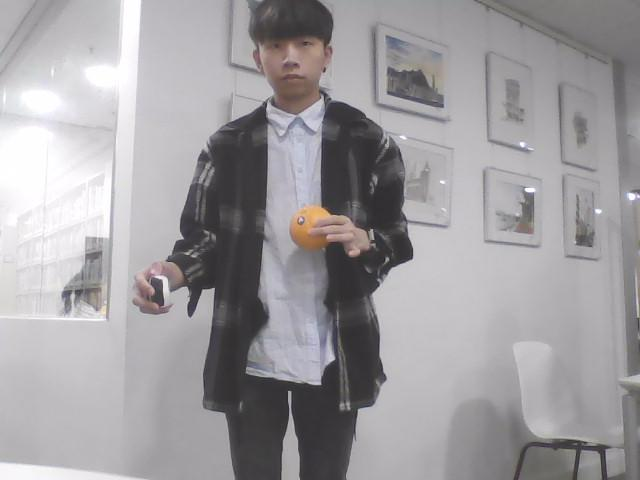orange: (289, 204, 333, 251)
